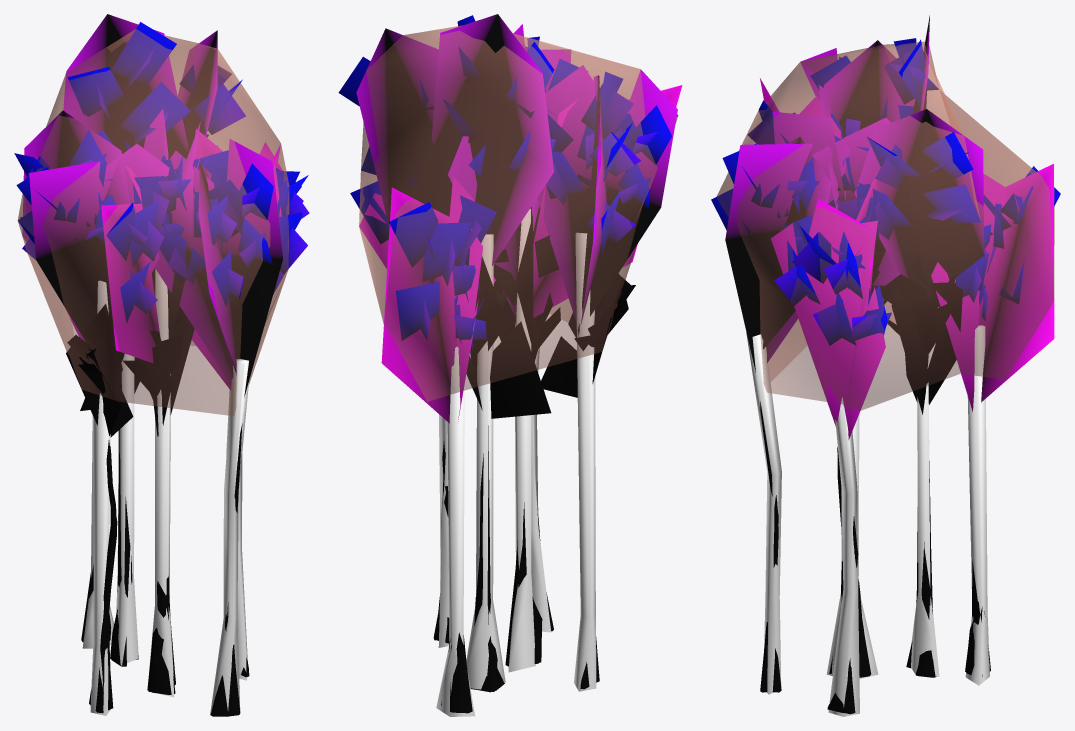
The model's file is tree_beech_forest_group.dae.
3 renders of one model, left to right at view 1: azimuth 30°, elevation 25°; view 2: azimuth 150°, elevation 25°; view 3: azimuth 270°, elevation 25°, orthographic. The views are drawn at different scales.
Parts seen in each view (by area): view 1: Colmesh_forest_group-1, beech_forest_group_a1000, beech_forest_group_a400; view 2: Colmesh_forest_group-1, beech_forest_group_a1000, beech_forest_group_a400; view 3: Colmesh_forest_group-1, beech_forest_group_a1000, beech_forest_group_a400.
Boxes of the visible parts, bbox=[...] form: Colmesh_forest_group-1: bbox=[17, 29, 289, 716]; beech_forest_group_a1000: bbox=[14, 14, 309, 716]; beech_forest_group_a400: bbox=[22, 14, 282, 712]; Colmesh_forest_group-1: bbox=[359, 25, 678, 716]; beech_forest_group_a1000: bbox=[338, 14, 677, 713]; beech_forest_group_a400: bbox=[356, 14, 682, 712]; Colmesh_forest_group-1: bbox=[716, 41, 1054, 716]; beech_forest_group_a1000: bbox=[711, 15, 1060, 713]; beech_forest_group_a400: bbox=[760, 401, 990, 714].
Bounding box in the file's own units: 10.86 × 11.27 × 23.47.
